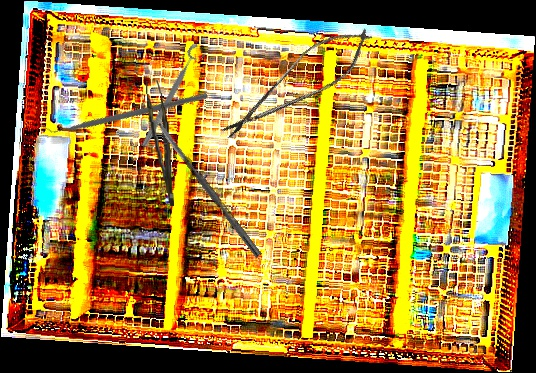Chopper: (38, 25, 210, 196)
Fixation Ring: (138, 42, 209, 152)
Micro Scissor: (211, 13, 384, 155)
Surgical Spoon: (151, 114, 263, 258)
Tissue Forceps: (145, 79, 175, 208)
